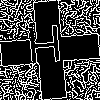H: (25, 25, 65, 74)
